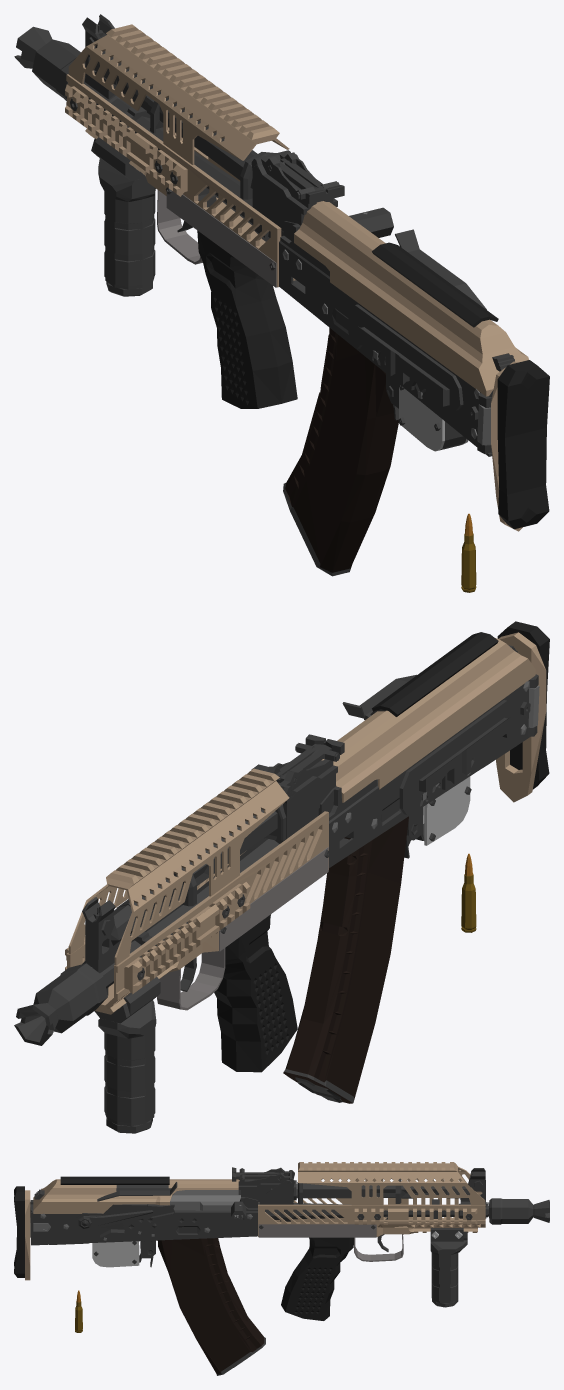
The model's file is nomad.glb.
3 views of the same model, one above another, from view 1: azimuth 30°, elevation 25°; view 2: azimuth 150°, elevation 25°; view 3: azimuth 270°, elevation 25° (orthographic). The views are drawn at different scales.
Visible parts, largest first — view 1: Object_24, Object_12, Object_52, Object_56, Object_43, Object_37, Object_50, Object_32, Object_38, Object_54, Object_74, Object_45 (+6 smaller); view 2: Object_12, Object_24, Object_56, Object_52, Object_37, Object_43, Object_32, Object_38, Object_74, Object_49, Object_54, Object_45 (+6 smaller); view 3: Object_24, Object_12, Object_37, Object_56, Object_43, Object_52, Object_32, Object_38, Object_16, Object_45, Object_74, Object_63 (+8 smaller).
Boxes of the visible parts, left/top/right/bottom form: Object_24: left=82, top=14, right=492, bottom=456; Object_12: left=285, top=327, right=398, bottom=572; Object_52: left=294, top=201, right=528, bottom=396; Object_56: left=68, top=24, right=289, bottom=164; Object_43: left=197, top=230, right=297, bottom=408; Object_37: left=65, top=74, right=295, bottom=287; Object_50: left=497, top=360, right=549, bottom=529; Object_32: left=91, top=137, right=155, bottom=296; Object_38: left=157, top=187, right=278, bottom=287; Object_54: left=372, top=242, right=498, bottom=327; Object_74: left=14, top=26, right=85, bottom=101; Object_45: left=116, top=68, right=276, bottom=199; Object_12: left=283, top=816, right=408, bottom=1103; Object_24: left=82, top=680, right=530, bottom=995; Object_56: left=68, top=768, right=289, bottom=965; Object_52: left=321, top=638, right=535, bottom=802; Object_37: left=65, top=811, right=328, bottom=1014; Object_43: left=214, top=914, right=297, bottom=1072; Object_32: left=94, top=977, right=160, bottom=1133; Object_38: left=157, top=847, right=328, bottom=1010; Object_74: left=14, top=963, right=107, bottom=1045; Object_49: left=496, top=632, right=546, bottom=802; Object_54: left=372, top=632, right=498, bottom=716; Object_45: left=117, top=804, right=286, bottom=926; Object_24: left=31, top=1167, right=488, bottom=1264; Object_12: left=157, top=1238, right=264, bottom=1373; Object_37: left=258, top=1193, right=485, bottom=1236; Object_56: left=298, top=1162, right=485, bottom=1205; Object_43: left=281, top=1237, right=353, bottom=1320; Object_52: left=33, top=1179, right=239, bottom=1213; Object_32: left=430, top=1228, right=467, bottom=1307; Object_38: left=258, top=1224, right=403, bottom=1261; Object_16: left=76, top=1204, right=174, bottom=1238; Object_45: left=293, top=1179, right=446, bottom=1204; Object_74: left=489, top=1198, right=549, bottom=1224; Object_63: left=170, top=1184, right=309, bottom=1218.
Bounding box in the file's own units: 0.0957 × 0.344 × 0.8.
